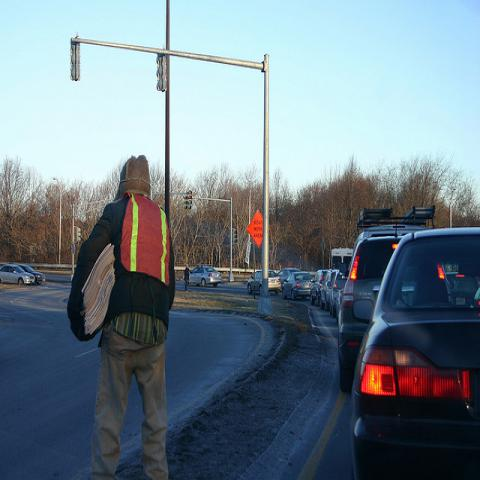car: (346, 222, 480, 476), (337, 206, 434, 391), (326, 264, 347, 316), (246, 270, 282, 296), (280, 271, 312, 300), (183, 265, 223, 288), (0, 265, 36, 287), (310, 269, 330, 307), (320, 270, 337, 312), (18, 264, 46, 286), (278, 267, 302, 284)
